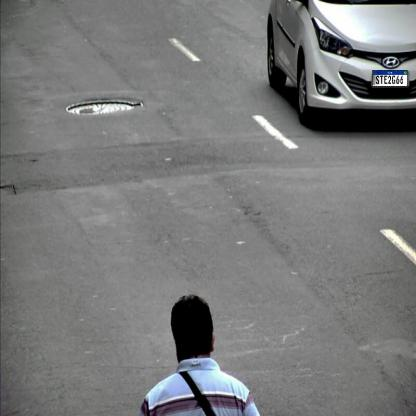PlacaM: (372, 70, 408, 87)
